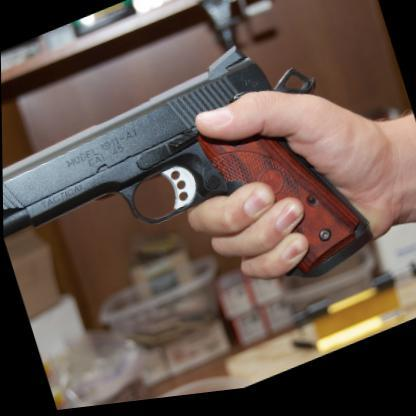pistol: (0, 15, 378, 385)
